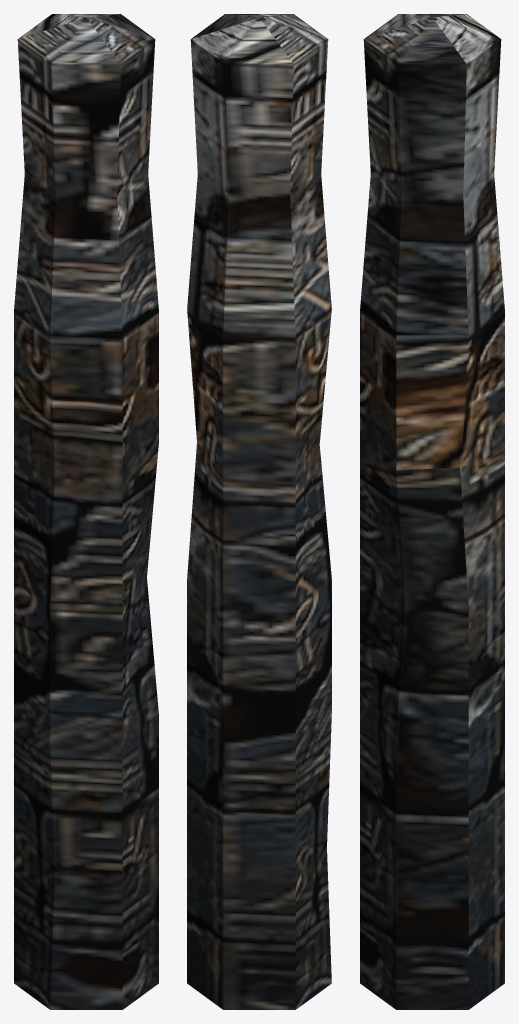
File: Totem3.fbx
3 views of the same model, side by side, from view 1: azimuth 30°, elevation 25°; view 2: azimuth 150°, elevation 25°; view 3: azimuth 270°, elevation 25° (orthographic).
Visible parts, largest first — view 1: Circle.099; view 2: Circle.099; view 3: Circle.099.
Boxes of the visible parts, x1,y1,x2,y2 form: Circle.099: (14, 14, 158, 1009); Circle.099: (187, 14, 331, 1009); Circle.099: (360, 14, 504, 1009).
Size of the model in its own units: 78.04 by 662 by 90.12.
